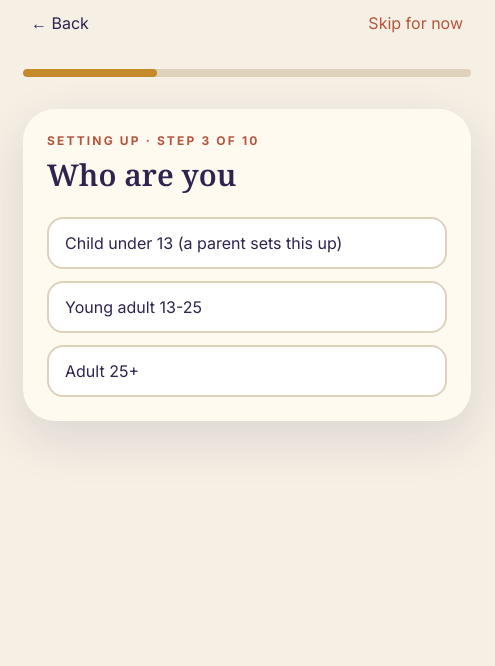
Test case: onboarding › patches only the screen answer and reached screen before advancing
Click the button "Adult 25+" at {"x": 102, "y": 371}, box [47, 345, 447, 397]
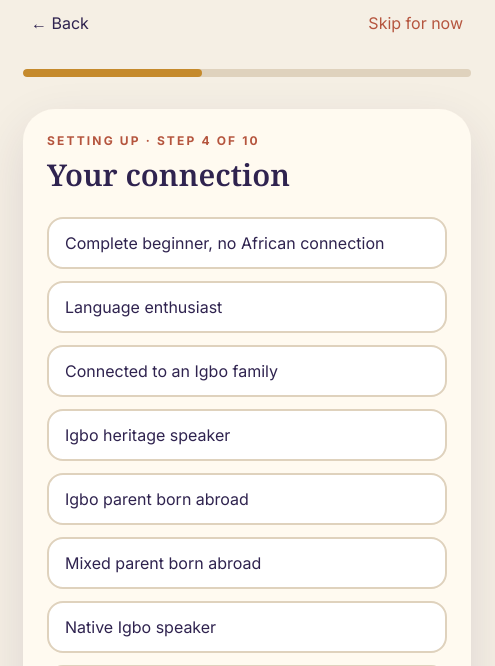
Expected: the heading "Your connection" is shown, [47, 154, 290, 195]
